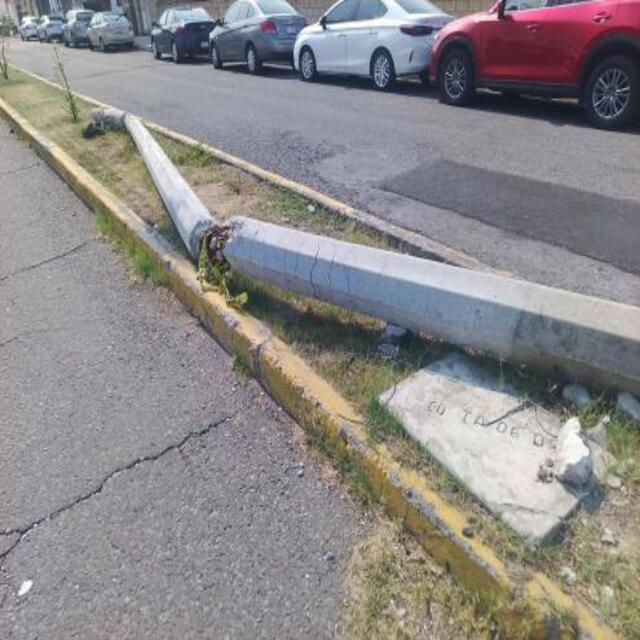Inclined Pole: (84, 98, 639, 392)
